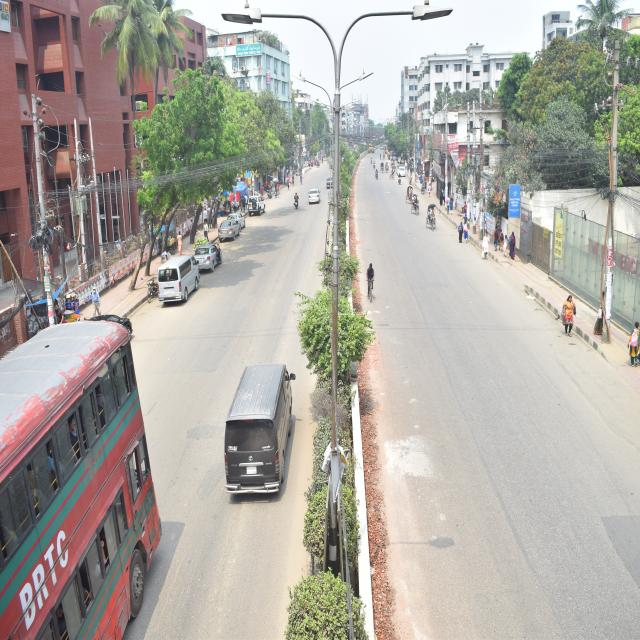bus: (0, 313, 168, 640)
car: (72, 311, 145, 335), (192, 237, 226, 276), (246, 188, 271, 224), (216, 214, 246, 243), (306, 178, 328, 217)
microbus: (207, 343, 316, 514), (152, 247, 203, 303)
motorbike: (290, 186, 300, 220), (371, 163, 383, 188)
